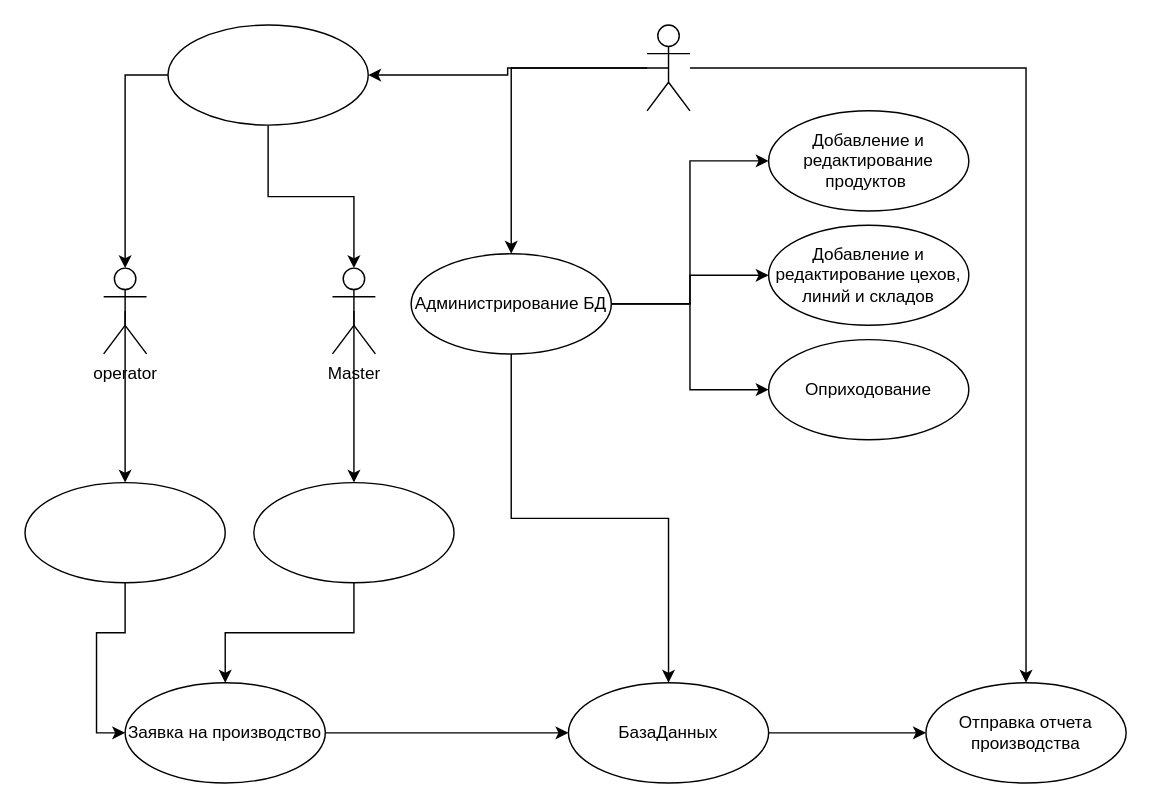
Some shapes in this 1151 by 808 pixel diagram are drawn without their labels. Each missing label, with the box of its shape:
1)Создание заявки на производство: (252, 481, 454, 583)
Admin: (646, 24, 690, 111)
Добавление продуктов в заявку: (24, 481, 225, 583)
Создание пользователя: (167, 24, 368, 125)
